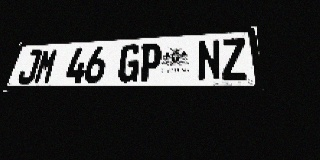4: (64, 47, 90, 83)
6: (83, 46, 109, 83)
G: (116, 44, 142, 82)
J: (16, 49, 43, 84)
M: (33, 48, 59, 84)
N: (197, 39, 222, 81)
P: (138, 43, 162, 82)
Z: (221, 38, 248, 81)
